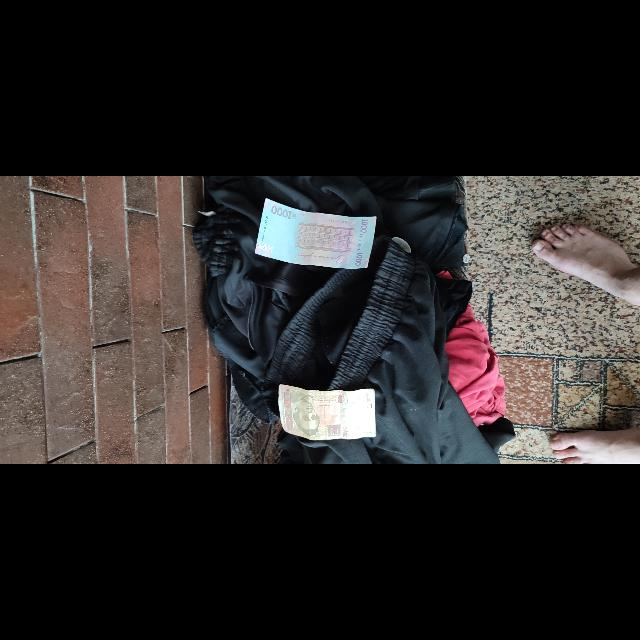1000uah: (255, 198, 379, 269)
100uah: (279, 382, 376, 439)
